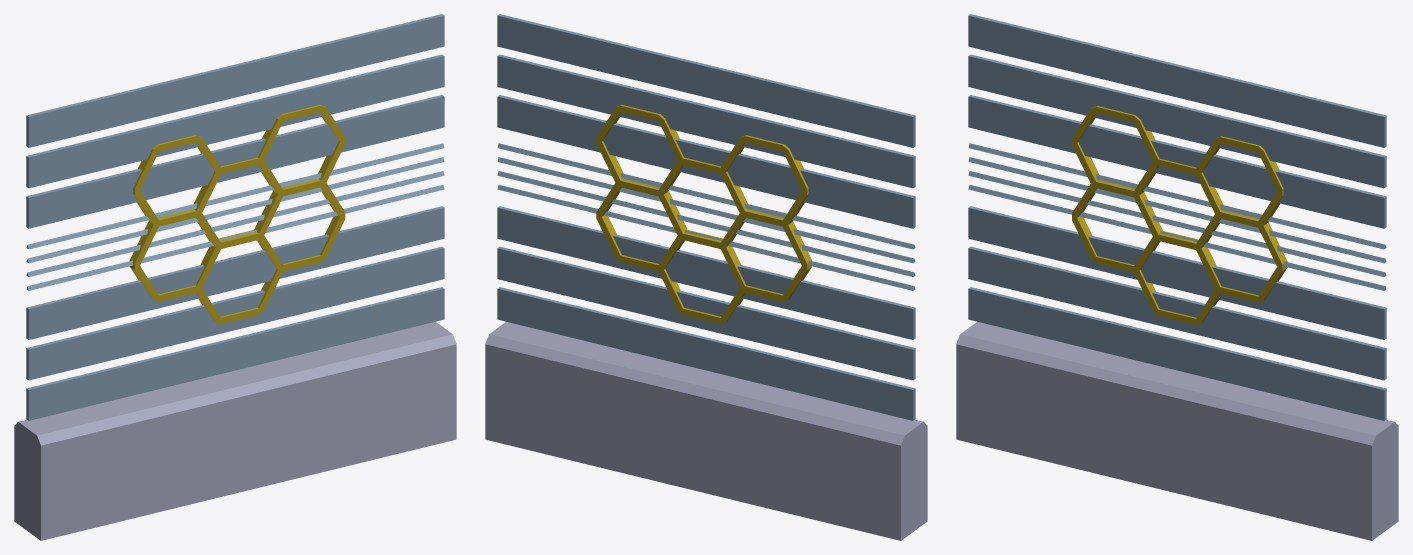
File: Fence1.FBX
3 renders of one model, left to right at view 1: azimuth 30°, elevation 25°; view 2: azimuth 150°, elevation 25°; view 3: azimuth 330°, elevation 25°, orthographic.
Visible parts, largest first — view 1: Fence; view 2: Fence; view 3: Fence.
Part boxes in pixels (<box>): Fence: <box>14,14,456,540</box>; Fence: <box>485,14,927,540</box>; Fence: <box>956,14,1398,540</box>.
Bounding box in the file's own units: 100 × 11.18 × 95.34.
